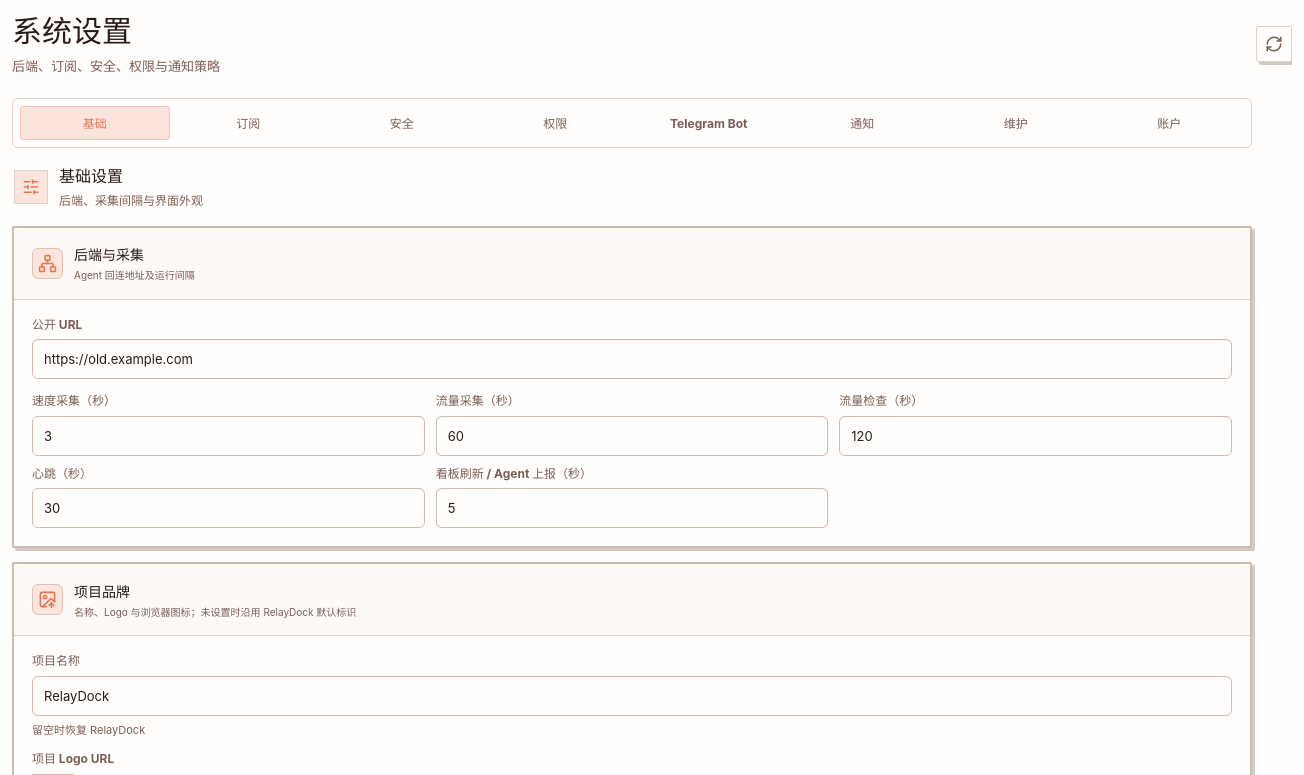
Test: settings workbench › lets the administrator update an Arcway-managed Mihomo core
Click the tab "维护": (1016, 123) top-left (941, 106), bottom-right (1090, 140)
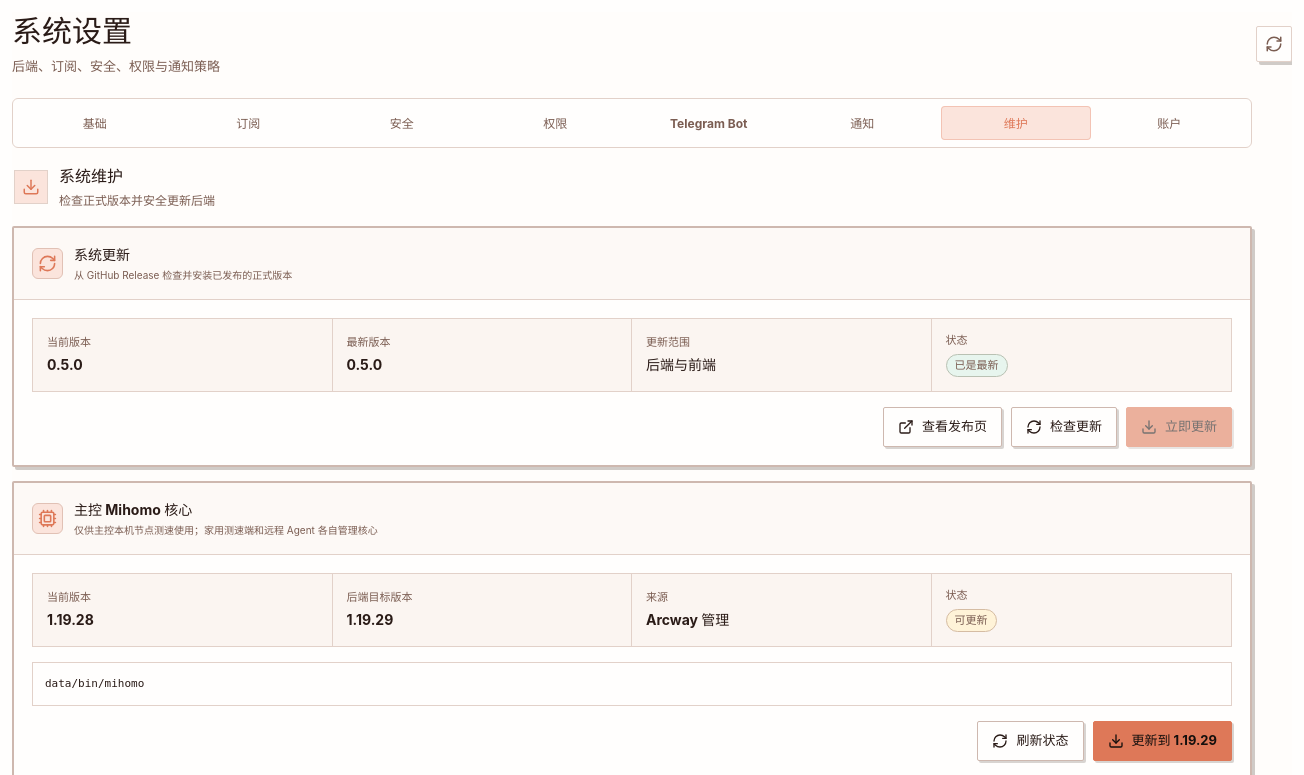
Click the button "更新到 1.19.29": (1162, 741) top-left (1092, 721), bottom-right (1232, 761)
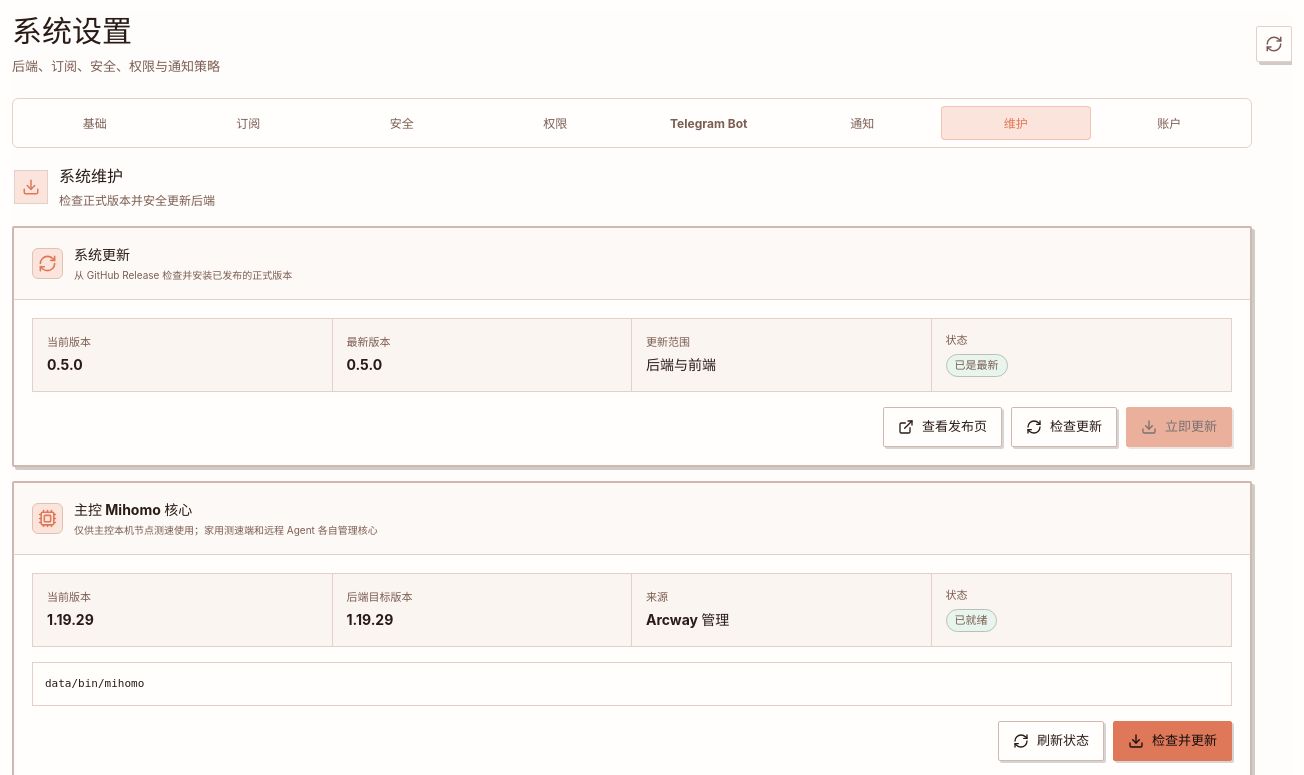
expect the button "检查并更新" is shown: met, box top-left (1113, 721), bottom-right (1232, 761)
